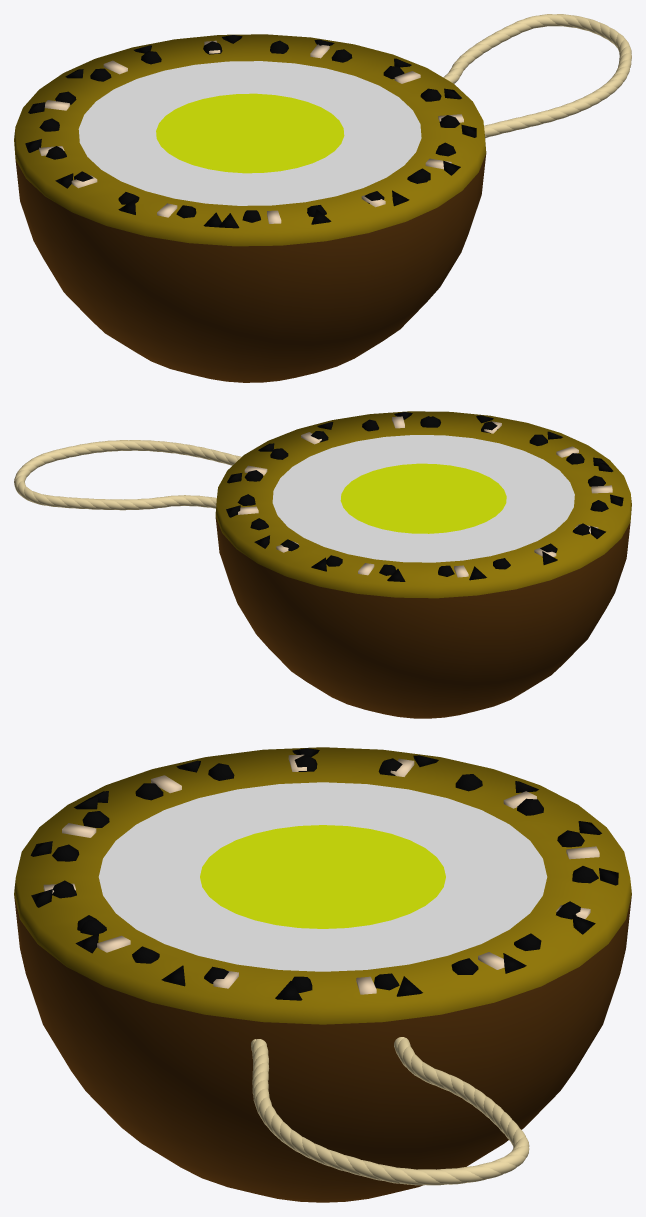
The model's file is Kleierbal.fbx.
3 renders of one model, top to bottom at view 1: azimuth 30°, elevation 25°; view 2: azimuth 150°, elevation 25°; view 3: azimuth 270°, elevation 25°, orthographic. The views are drawn at different scales.
Parts seen in each view (by area): view 1: Eierbal, Rope, Seed1, Seed2, Seed3; view 2: Eierbal, Rope, Seed1, Seed2, Seed3; view 3: Eierbal, Rope, Seed1, Seed2, Seed3.
Part boxes in pixels (x1=…): Eierbal: x1=14, y1=34, x2=486, y2=382; Rope: x1=443, y1=14, x2=631, y2=138; Seed1: x1=39, y1=40, x2=459, y2=222; Seed2: x1=25, y1=35, x2=476, y2=228; Seed3: x1=39, y1=40, x2=463, y2=223; Eierbal: x1=215, y1=411, x2=631, y2=718; Rope: x1=14, y1=440, x2=241, y2=510; Seed1: x1=237, y1=416, x2=608, y2=576; Seed2: x1=226, y1=412, x2=623, y2=581; Seed3: x1=238, y1=416, x2=612, y2=577; Eierbal: x1=14, y1=747, x2=631, y2=1202; Rope: x1=251, y1=1037, x2=529, y2=1185; Seed1: x1=52, y1=755, x2=598, y2=992; Seed2: x1=30, y1=748, x2=618, y2=1000; Seed3: x1=43, y1=754, x2=599, y2=994.
Size of the model in its own units: 300 by 111 by 200.
